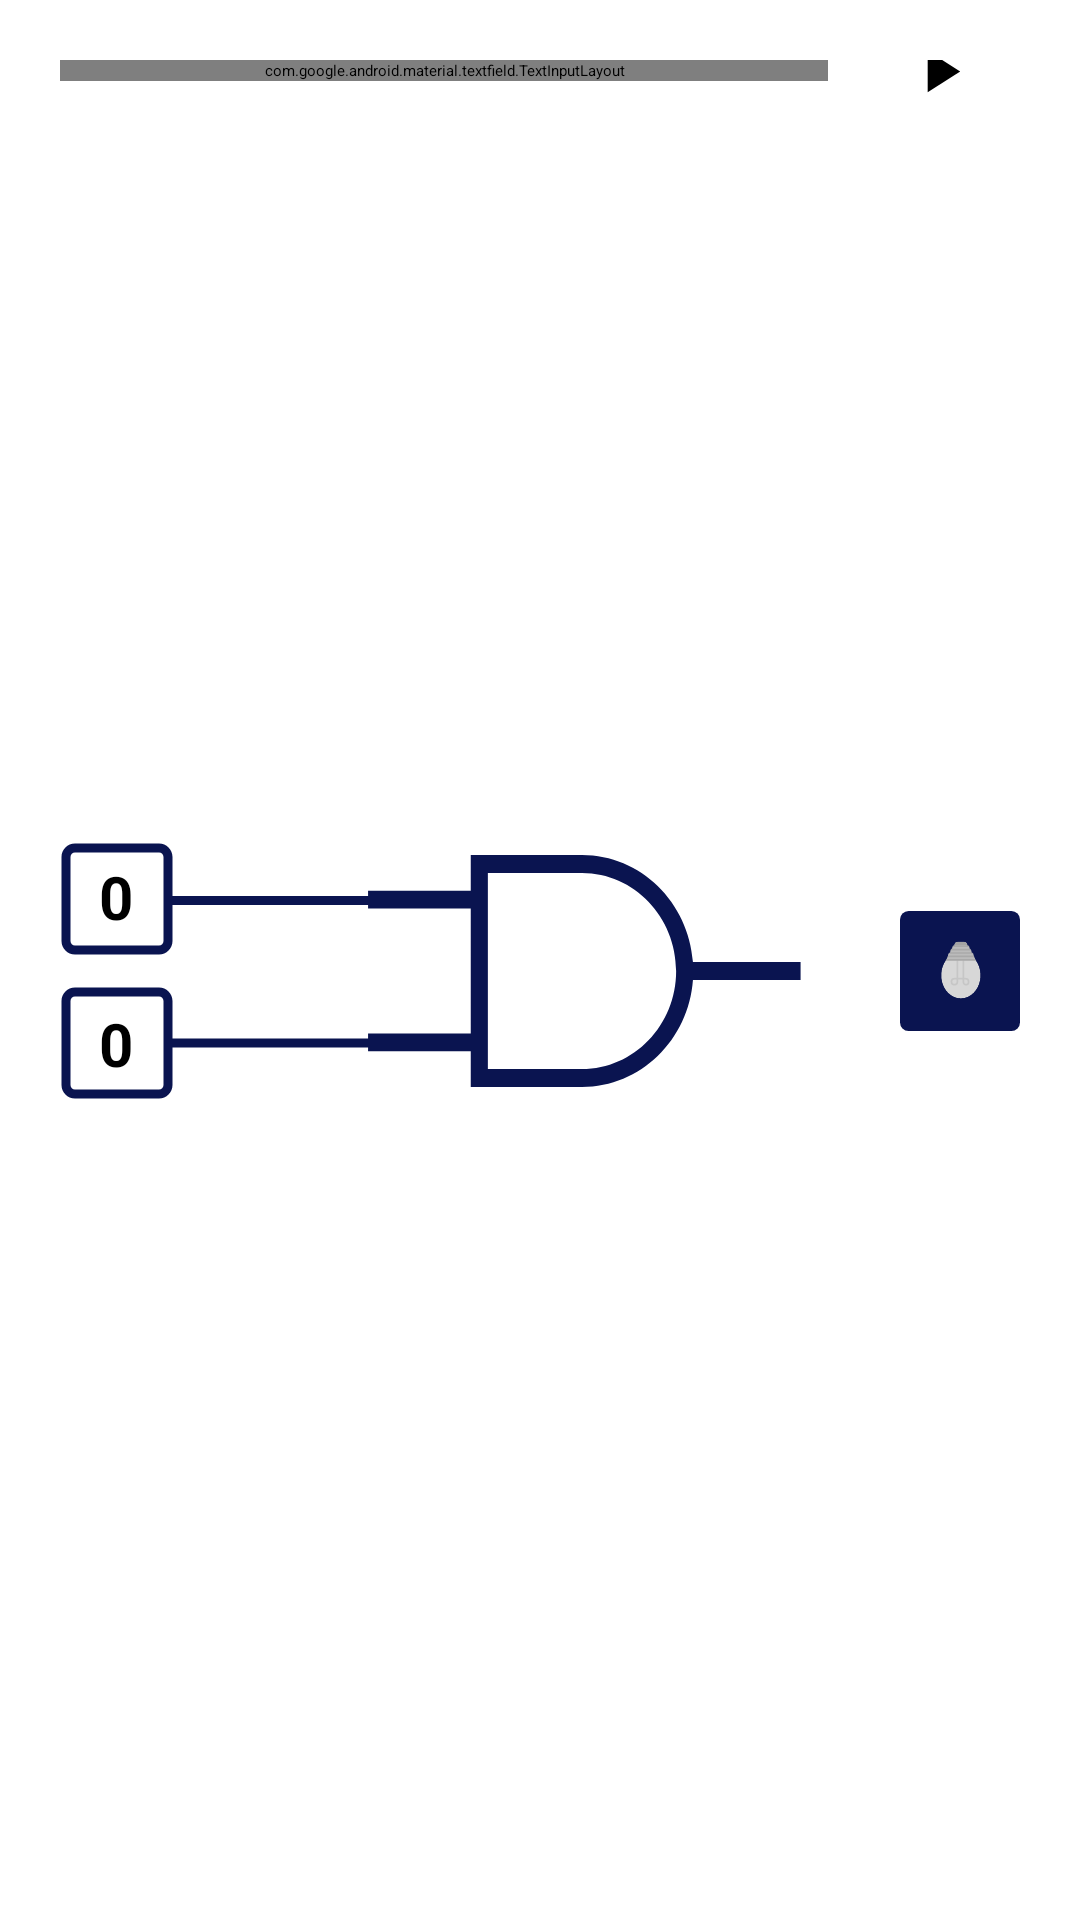

Locate icon controls on the screen. Image size 1080px x 1920px, boxes as (x1, y1, x2, y2).
lamp off: (900, 911, 1020, 1031)
Used for start simulation: (927, 60, 960, 92)
